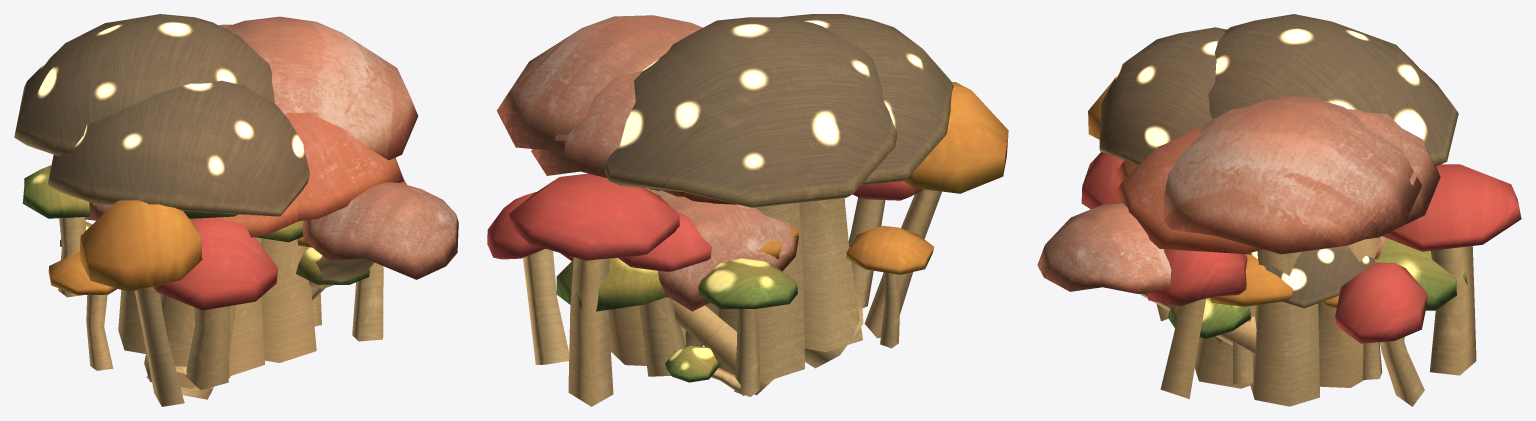
File: shroom_forest.glb
The picture shows the model from 3 angles, left to right: view 1: azimuth 30°, elevation 25°; view 2: azimuth 150°, elevation 25°; view 3: azimuth 270°, elevation 25°; orthographic projection. The views are drawn at different scales.
Parts seen in each view (by area): view 1: center_04, outer_05, center_01, outer_01, center_02, outer_02, outer_06, outer_04; view 2: center_01, outer_01, outer_05, center_04, outer_06, outer_02, center_03, outer_04, outer_03; view 3: outer_05, outer_01, center_01, center_04, outer_02, center_02, center_03, outer_03, outer_04, outer_06.
Boxes of the visible parts, left/top/right/bottom form: center_04: left=47, top=80, right=309, bottom=399; outer_05: left=84, top=16, right=458, bottom=326; center_01: left=14, top=14, right=274, bottom=353; outer_01: left=79, top=200, right=369, bottom=406; center_02: left=261, top=112, right=404, bottom=362; outer_02: left=153, top=180, right=406, bottom=389; outer_06: left=22, top=165, right=298, bottom=375; outer_04: left=183, top=211, right=304, bottom=378; center_01: left=604, top=17, right=897, bottom=381; outer_01: left=487, top=82, right=1008, bottom=406; outer_05: left=496, top=15, right=798, bottom=311; center_04: left=781, top=14, right=953, bottom=368; outer_06: left=560, top=190, right=934, bottom=396; outer_02: left=618, top=180, right=921, bottom=376; center_03: left=531, top=71, right=686, bottom=365; outer_04: left=556, top=199, right=844, bottom=395; outer_03: left=666, top=226, right=798, bottom=347; outer_05: left=1037, top=96, right=1422, bottom=406; outer_01: left=1088, top=80, right=1521, bottom=406; center_01: left=1208, top=14, right=1458, bottom=166; center_04: left=1099, top=27, right=1375, bottom=308; outer_02: left=1081, top=152, right=1404, bottom=398; center_02: left=1115, top=128, right=1262, bottom=388; center_03: left=1318, top=109, right=1440, bottom=387; outer_03: left=1209, top=254, right=1338, bottom=384; outer_04: left=1375, top=237, right=1467, bottom=310; outer_06: left=1116, top=160, right=1382, bottom=379.
Bounding box in the file's own units: 4.52 × 3.75 × 4.99.
Materials: 1 (1 with a texture image).
